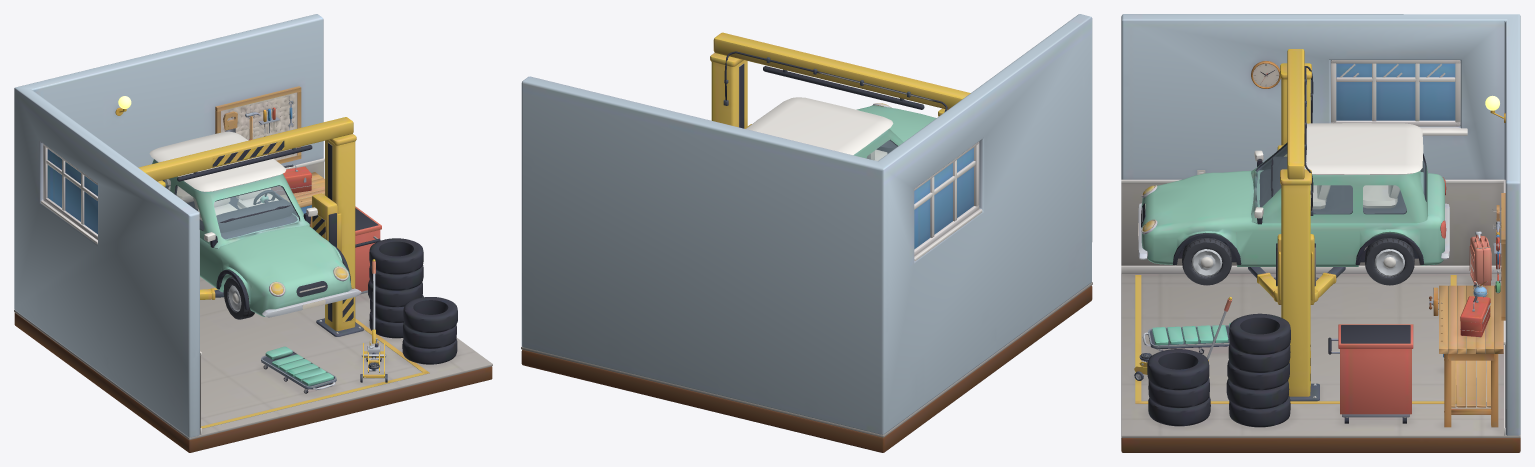
Rendered from car-engine.glb.
The picture shows the model from 3 angles, left to right: view 1: azimuth 30°, elevation 25°; view 2: azimuth 150°, elevation 25°; view 3: azimuth 270°, elevation 25°; orthographic projection. The views are drawn at different scales.
Visible parts, largest first — view 1: car-workshop_body, car-workshop_car_glass, car-workshop_car_display; view 2: car-workshop_body; view 3: car-workshop_body, car-workshop_car_display, car-workshop_car_glass.
Boxes of the visible parts, box(x1,y1,x2,y2) form: car-workshop_body: box(14, 14, 492, 452); car-workshop_car_glass: box(163, 179, 299, 239); car-workshop_car_display: box(223, 276, 254, 319); car-workshop_body: box(521, 14, 1092, 452); car-workshop_body: box(1121, 14, 1520, 452); car-workshop_car_display: box(1182, 238, 1414, 285); car-workshop_car_glass: box(1256, 145, 1424, 213).
Bounding box in the file's own units: 4 × 3 × 4.
9 materials, 2 textured.
